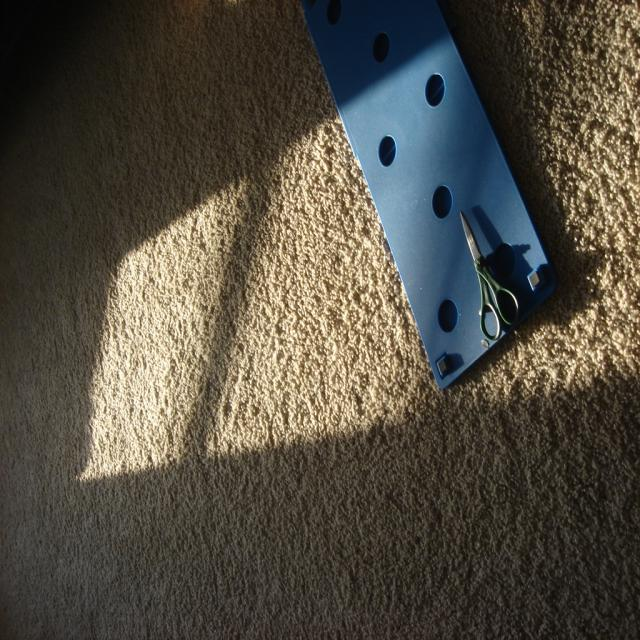scissors: (459, 210, 519, 341)
